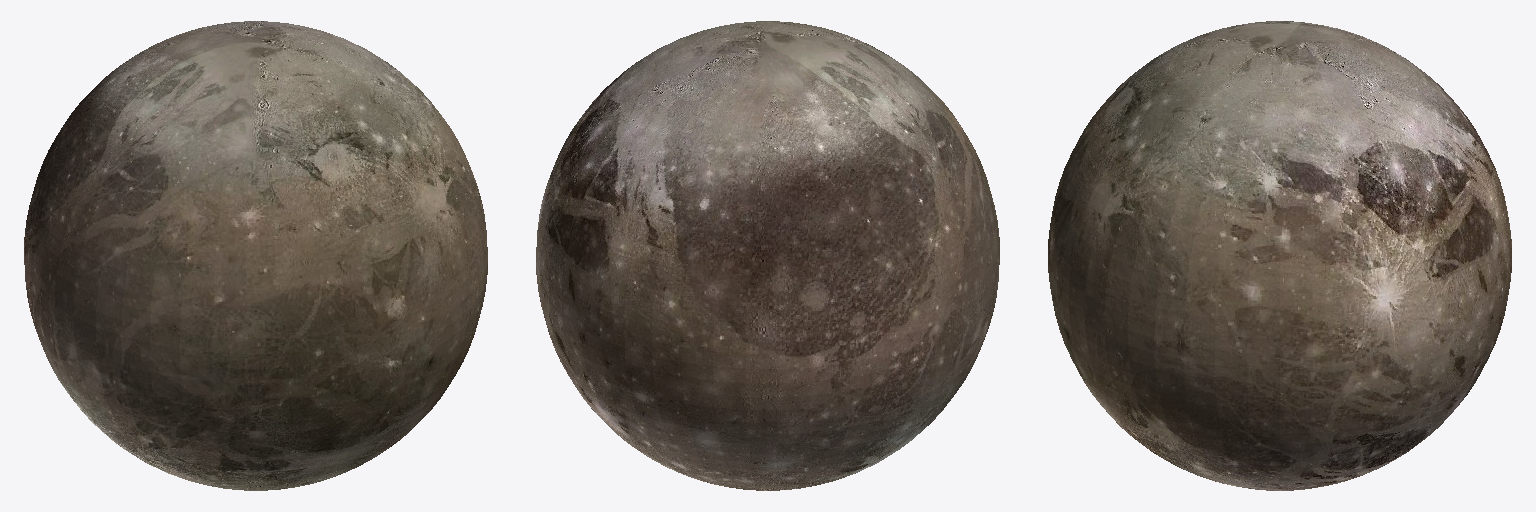
3 views of the same model, side by side, from view 1: azimuth 30°, elevation 25°; view 2: azimuth 150°, elevation 25°; view 3: azimuth 270°, elevation 25° (orthographic).
Parts seen in each view (by area): view 1: ganymede; view 2: ganymede; view 3: ganymede.
Part boxes in pixels (bbox=[...]): ganymede: bbox=[24, 21, 487, 490]; ganymede: bbox=[536, 21, 999, 490]; ganymede: bbox=[1048, 21, 1511, 490].
Size of the model in its own units: 4.92 by 4.97 by 4.92.
1 materials, 1 textured.